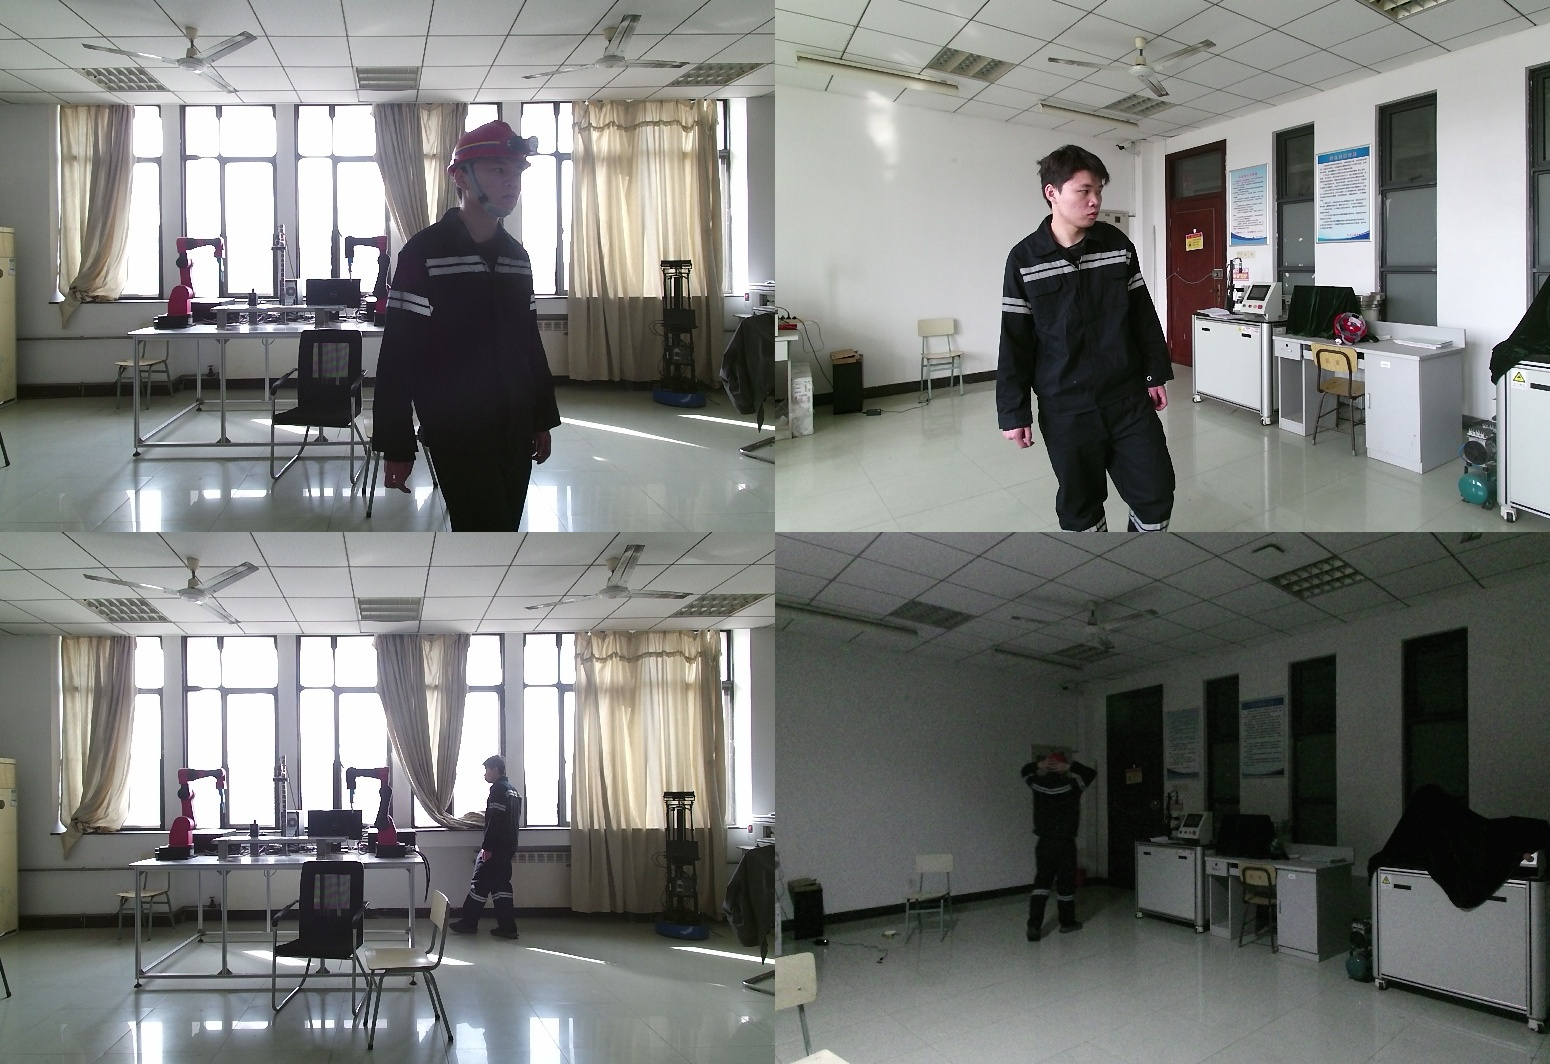person: (383, 121, 571, 532), (997, 143, 1189, 532), (1011, 754, 1092, 952), (455, 758, 525, 943)
